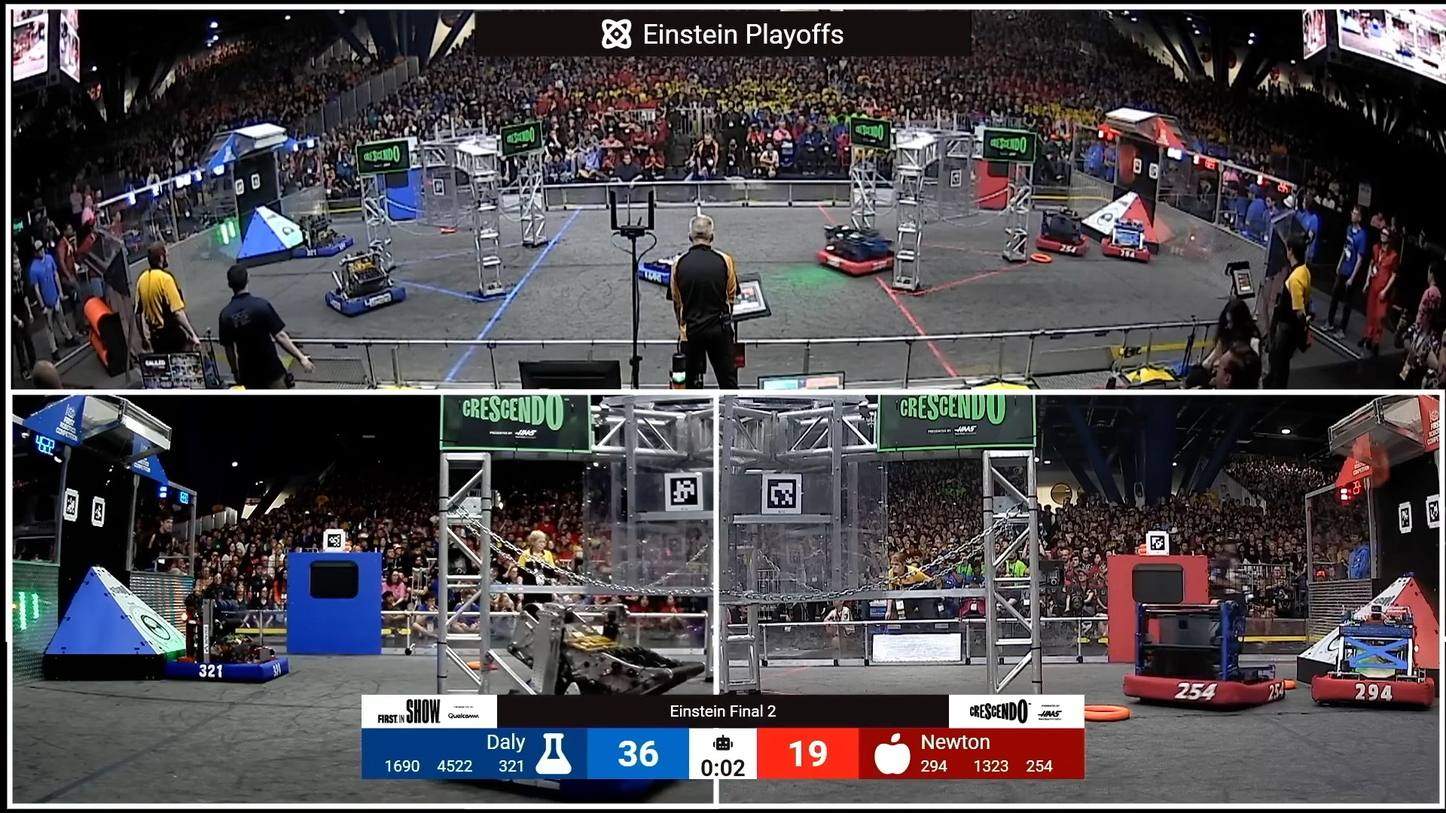bumpers: (1123, 671, 1304, 723), (1312, 676, 1442, 713), (179, 650, 302, 689), (318, 281, 418, 322), (810, 243, 907, 281), (634, 257, 704, 289), (291, 234, 358, 258), (1100, 246, 1158, 267), (1030, 236, 1089, 256)
